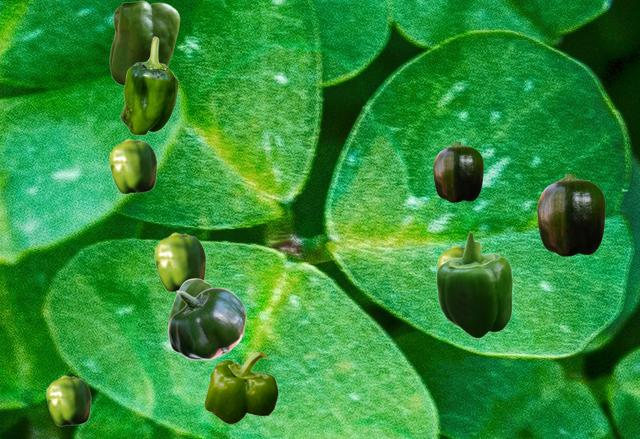bell_pepper: (435, 231, 512, 338), (109, 0, 179, 86), (167, 287, 245, 359), (120, 36, 177, 134), (537, 174, 604, 255), (204, 351, 277, 423), (154, 232, 205, 291), (433, 142, 482, 201), (168, 278, 233, 320), (109, 138, 156, 193), (46, 375, 90, 425), (437, 245, 463, 266)
